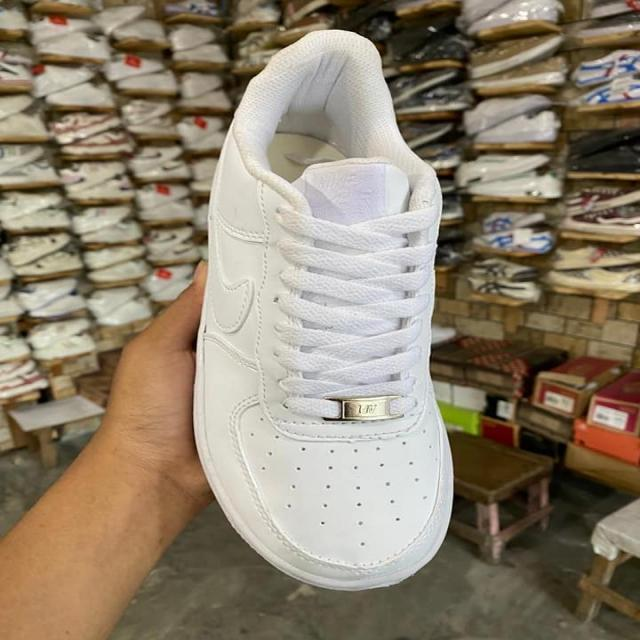nike fake air force: (188, 28, 454, 592)
